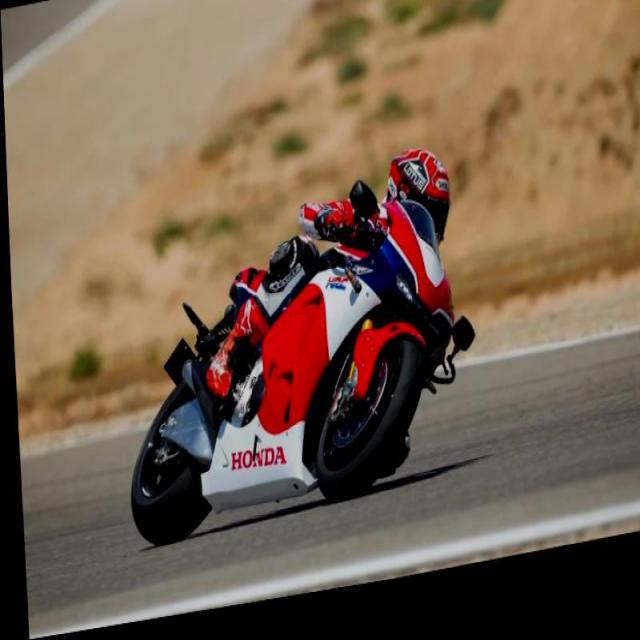HRC RCV 213: (115, 205, 462, 555)
